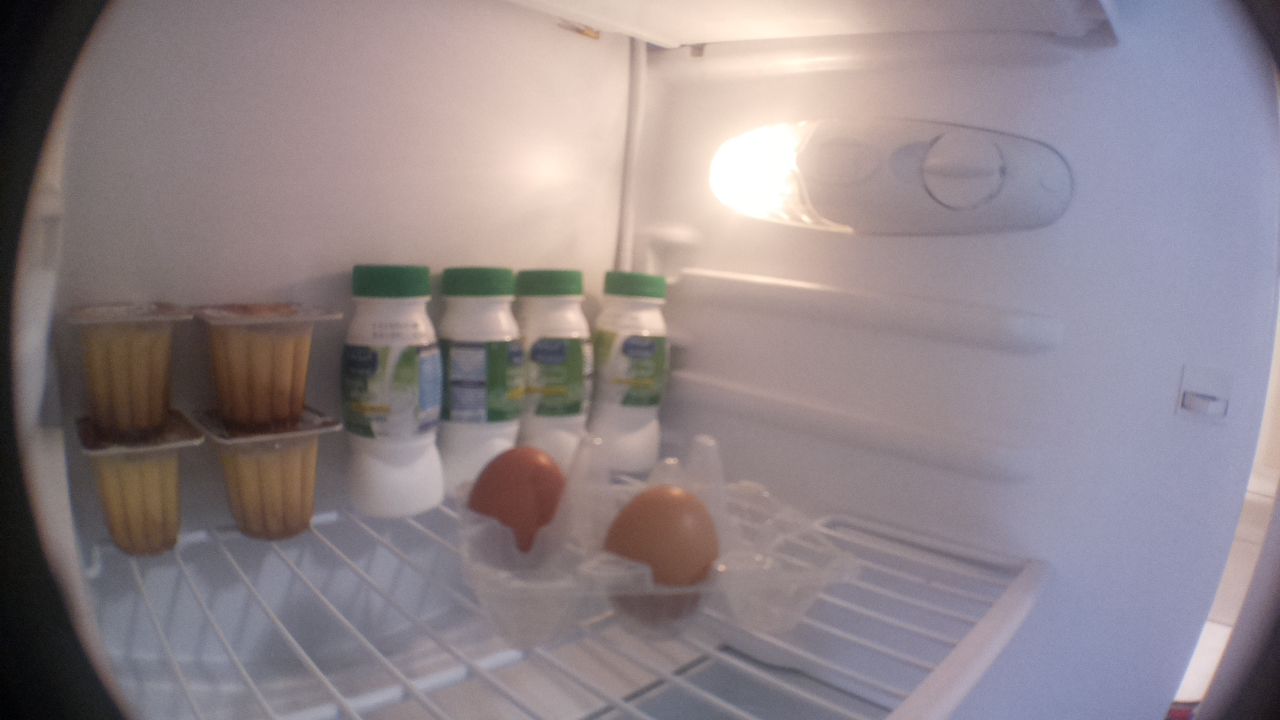caramel: (196, 301, 341, 428), (58, 303, 195, 434), (206, 422, 344, 541), (83, 436, 204, 554)
egg: (599, 481, 723, 629), (458, 443, 571, 552)
laban: (339, 261, 437, 522), (593, 268, 671, 477), (435, 263, 521, 442), (523, 266, 599, 444)
